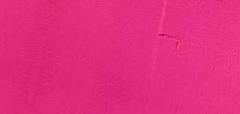snag: (153, 27, 186, 50)
